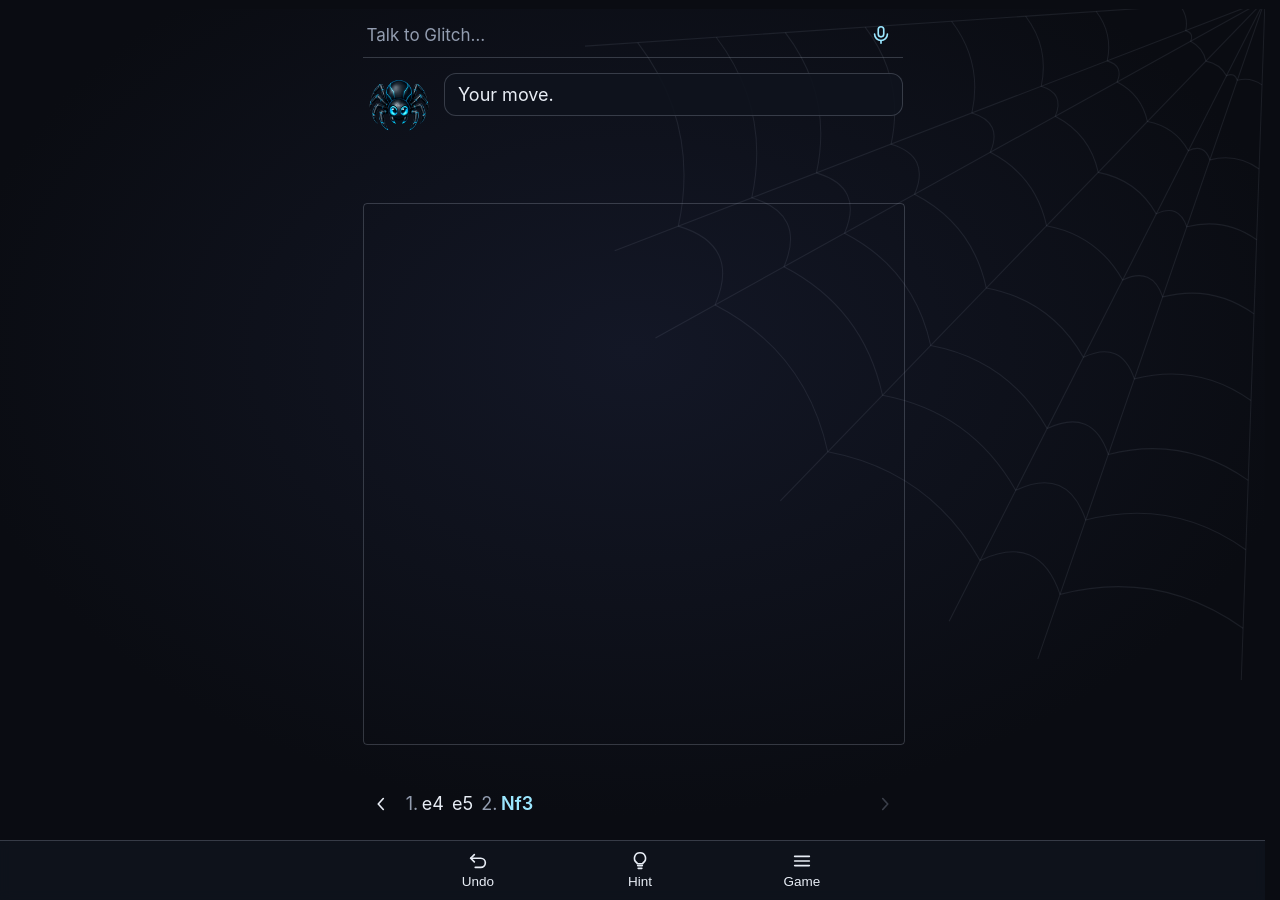
Test: stepping back through moves › says which move is on the board and how to return
This screenshot has width=1280, height=900.
Step 1. Click the button named "Previous move" → (380, 804), box [362,782,398,826]
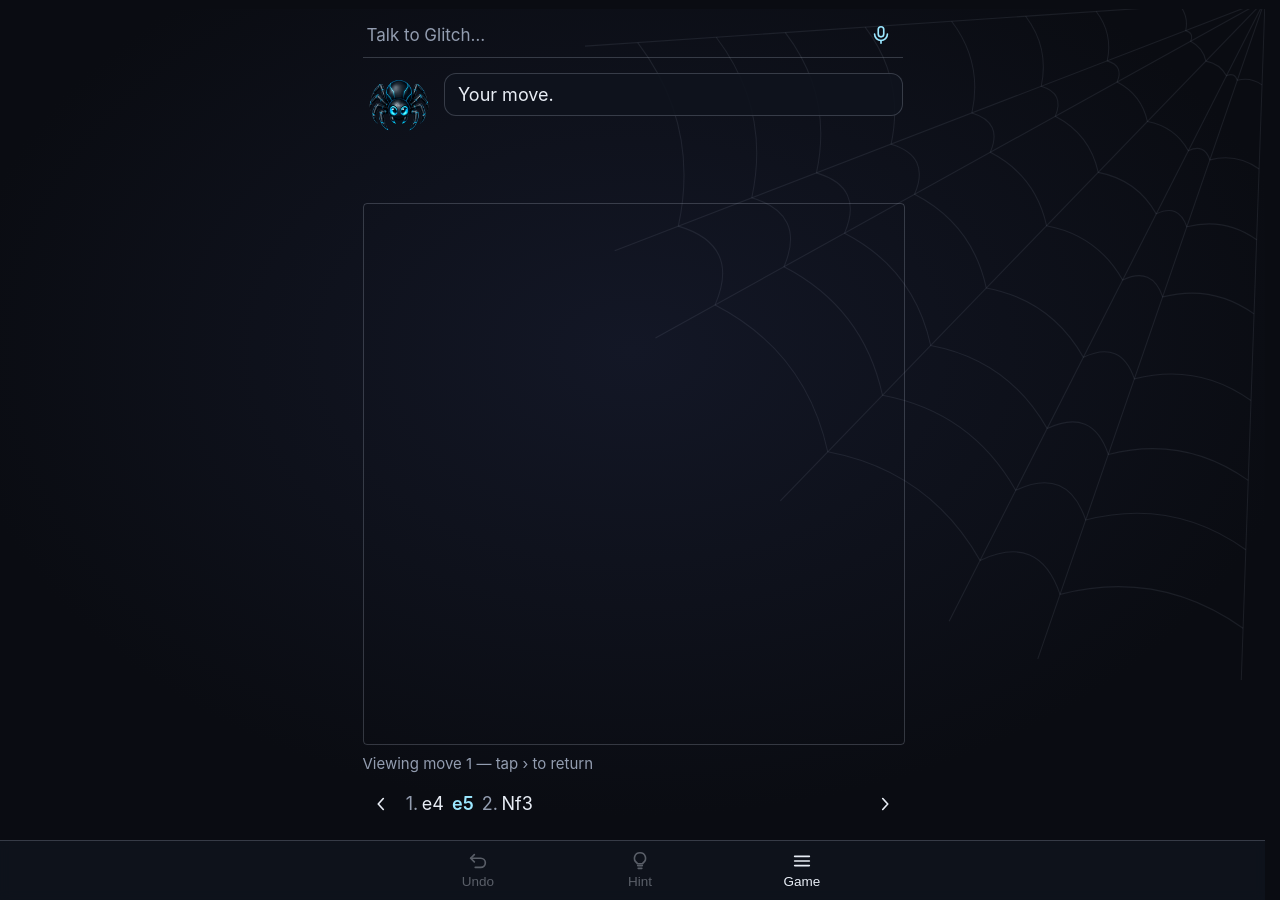
Now the text "Viewing move 1 — tap › to return" is shown, box [362,755,593,773]
Now the button "Undo" is disabled, box [397,840,559,899]
Now the button "Hint" is disabled, box [559,840,721,899]
Step 2. Click the button named "Previous move" → (380, 804), box [362,782,398,826]
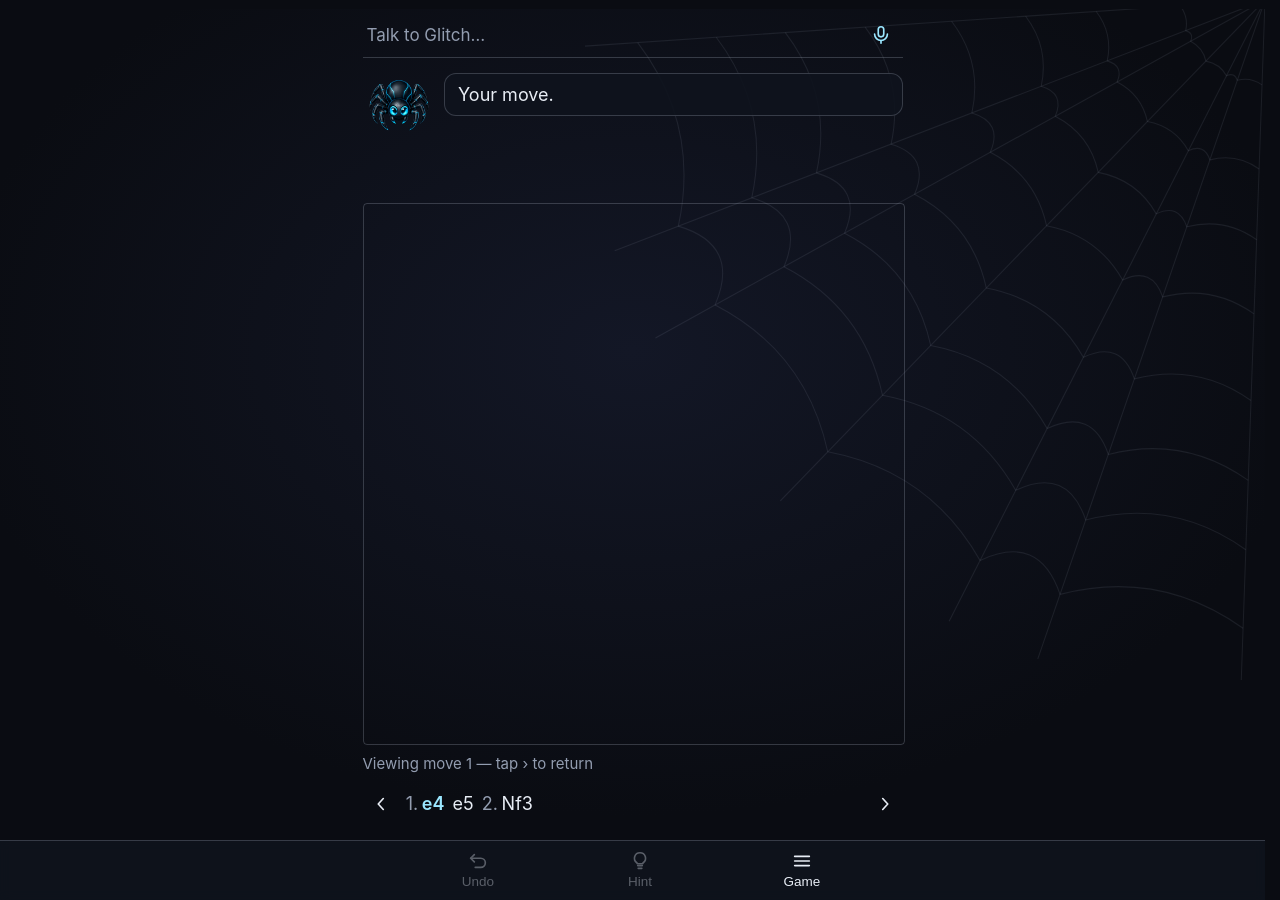
Step 3. Click the button named "Previous move" → (380, 804), box [362,782,398,826]
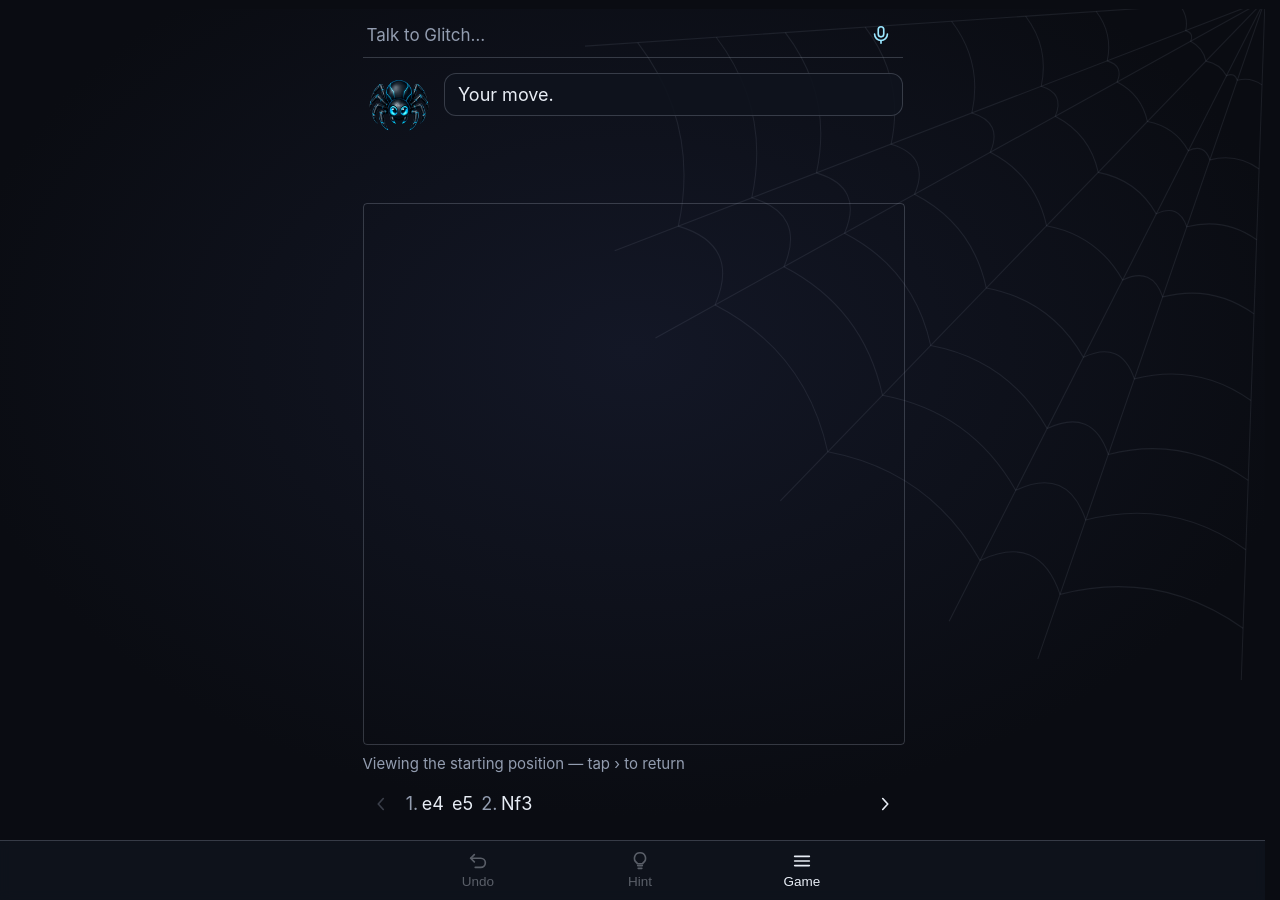
Now the text "Viewing the starting position — tap › to return" is shown, box [362,755,685,773]
